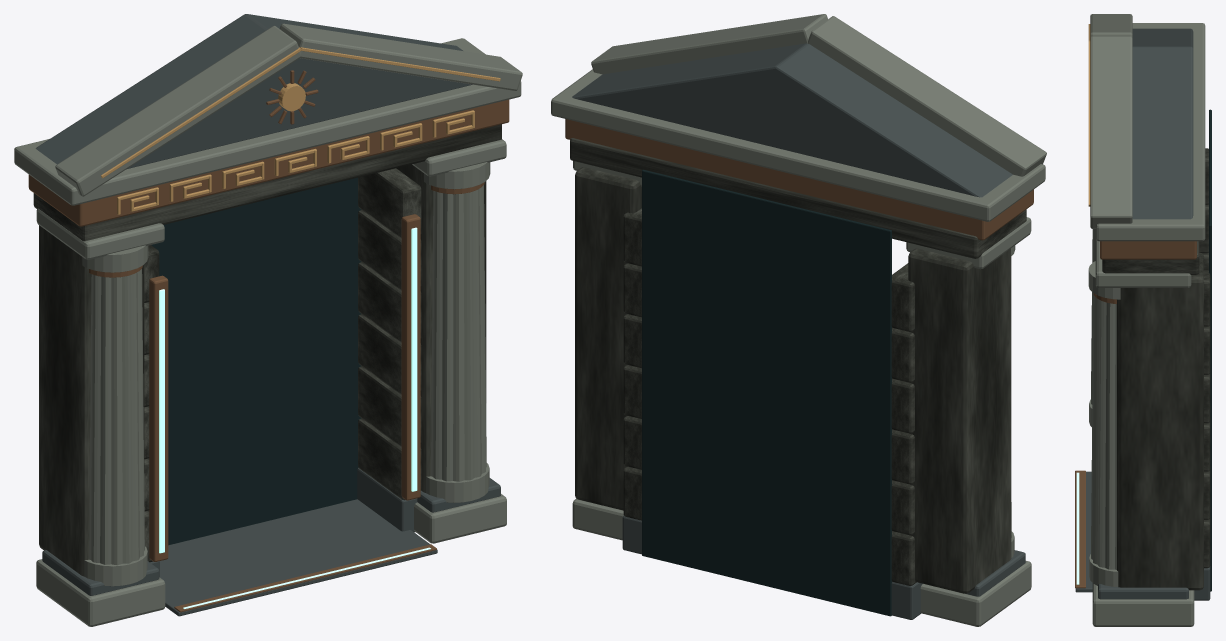
File: temple_exit.glb
3 renders of one model, left to right at view 1: azimuth 30°, elevation 25°; view 2: azimuth 150°, elevation 25°; view 3: azimuth 270°, elevation 25°, orthographic. The views are drawn at different scales.
Parts seen in each view (by area): view 1: TempleExit; view 2: TempleExit; view 3: TempleExit.
Boxes of the visible parts, box(x1,y1,x2,y2) form: TempleExit: box(14, 14, 522, 626); TempleExit: box(551, 14, 1046, 626); TempleExit: box(1075, 14, 1211, 626).
Bounding box in the file's own units: 3.98 × 4.55 × 1.13.
Materials: 7 (1 with a texture image).
